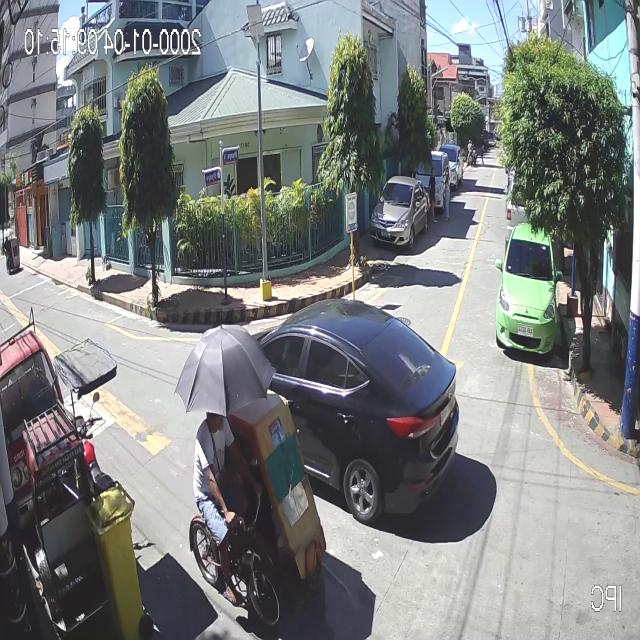standing: (440, 166, 452, 221), (427, 166, 438, 223)
walking: (480, 142, 486, 164)
